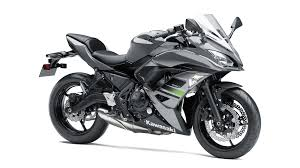motorcycle: (37, 13, 263, 159)
